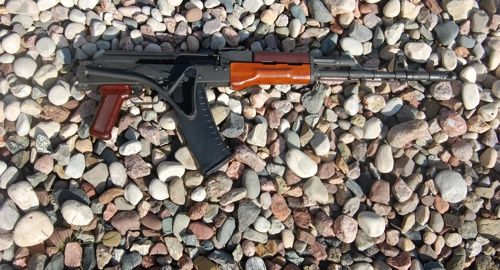ak47: (76, 50, 444, 169)
